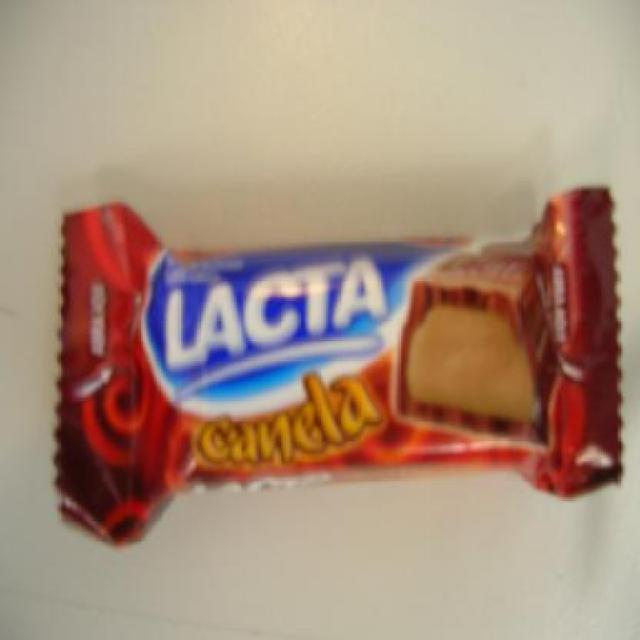Chocolate bar: (52, 186, 626, 548)
